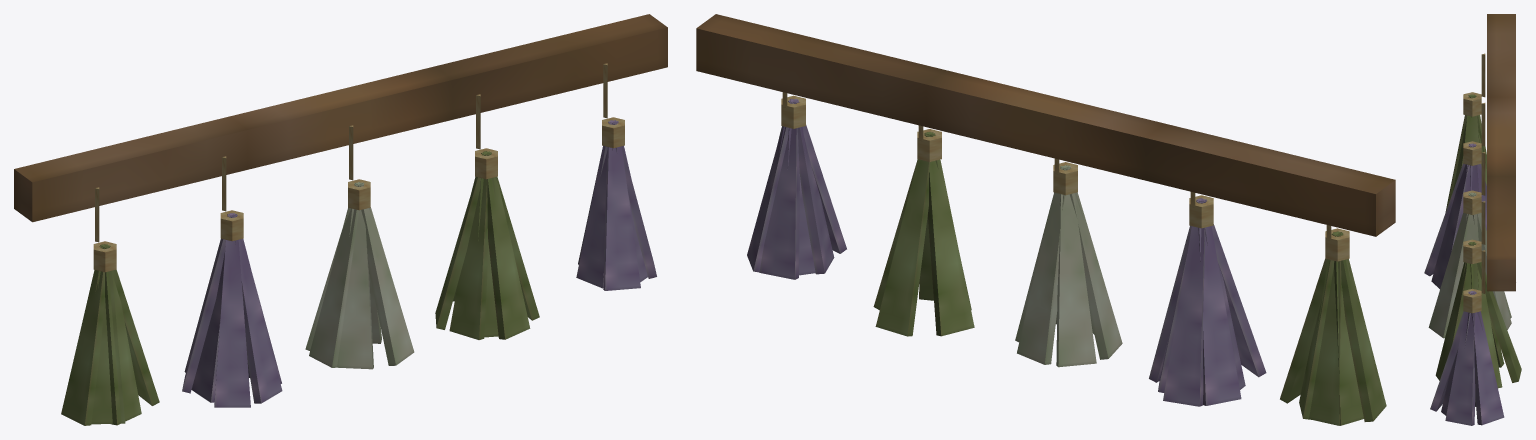
Rendered from herbs_hanging.obj.
3 views of the same model, side by side, from view 1: azimuth 30°, elevation 25°; view 2: azimuth 150°, elevation 25°; view 3: azimuth 270°, elevation 25° (orthographic). The views are drawn at different scales.
Parts seen in each view (by area): view 1: herbs_hanging; view 2: herbs_hanging; view 3: herbs_hanging.
Boxes of the visible parts, x1,y1,x2,y2 form: herbs_hanging: (14,14,667,425); herbs_hanging: (696,14,1395,425); herbs_hanging: (1424,14,1521,425).
Bounding box in the file's own units: 1 × 0.371 × 0.168.
Materials: 1 (1 with a texture image).
